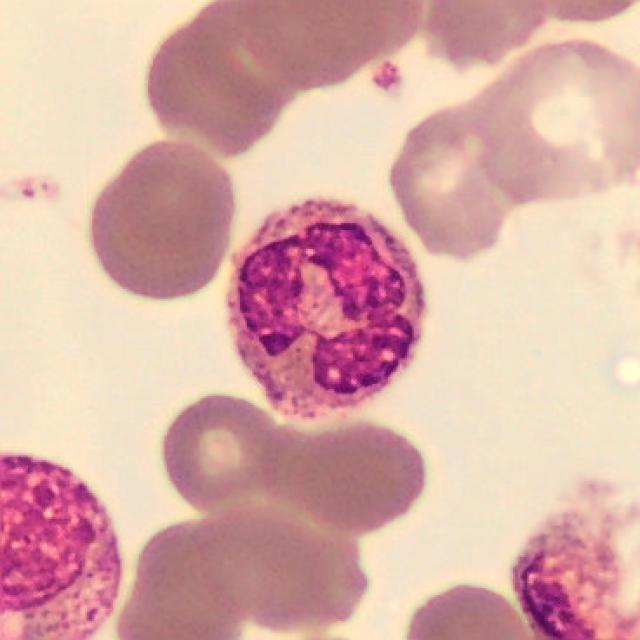Neutrofilo segmentado: (224, 199, 426, 424)
